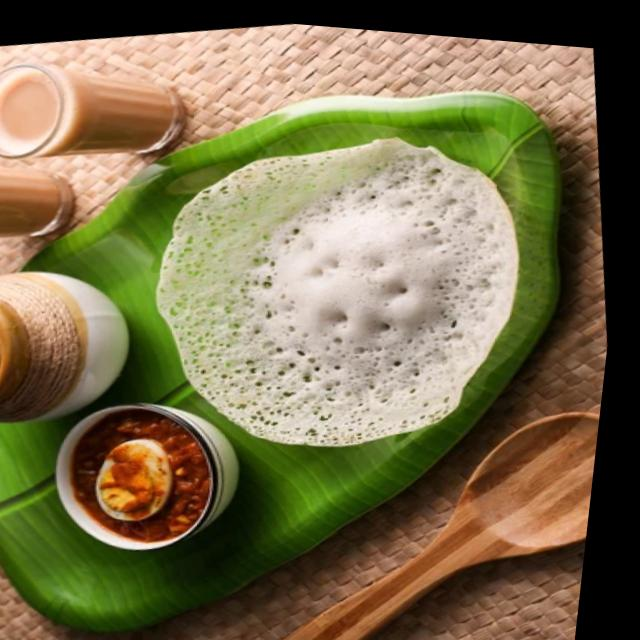AAPAM: (132, 105, 548, 482)
KURMA: (41, 392, 240, 564)
